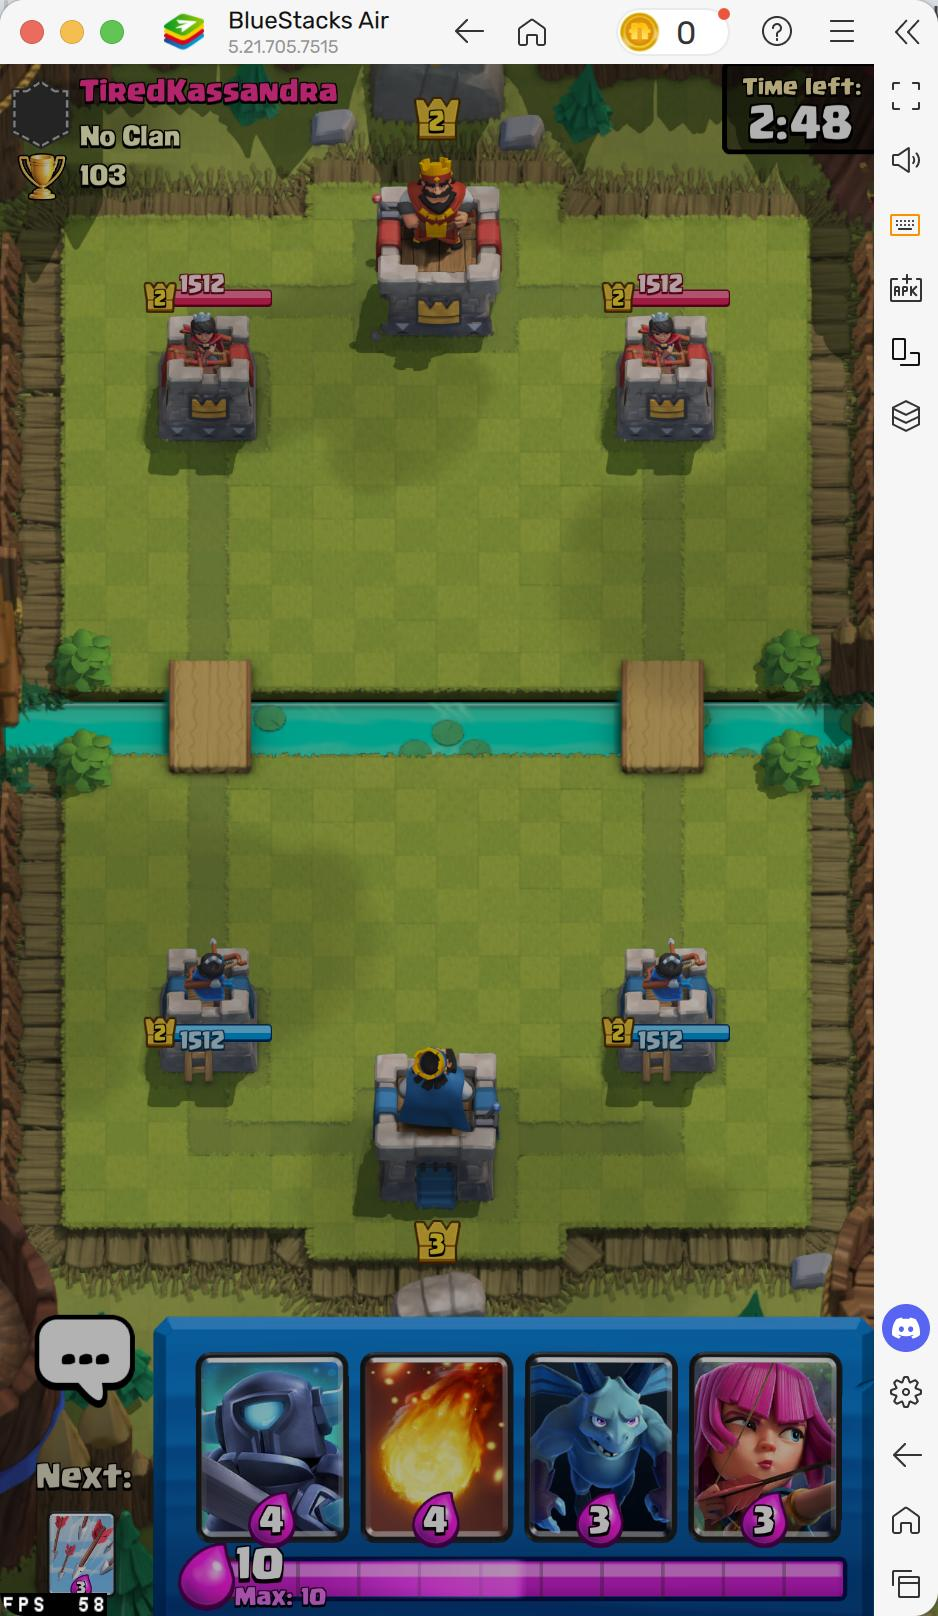0: (251, 1545, 286, 1584)
1: (233, 1542, 252, 1584), (176, 271, 191, 295), (636, 271, 648, 296), (201, 271, 212, 295), (659, 271, 670, 295), (636, 1029, 648, 1051), (659, 1029, 670, 1050), (179, 1029, 190, 1050), (202, 1029, 212, 1051)
2: (747, 100, 776, 144), (209, 270, 228, 295), (668, 271, 686, 295), (210, 1029, 226, 1052), (669, 1029, 685, 1051)
3: (586, 1502, 613, 1539), (753, 1503, 775, 1537), (75, 1579, 87, 1595)
4: (789, 104, 822, 142), (257, 1501, 287, 1539), (421, 1502, 450, 1538)
5: (188, 271, 204, 295), (645, 1029, 662, 1051), (645, 272, 661, 296), (189, 1029, 203, 1052)
Enemy Tower: (155, 311, 261, 444), (613, 314, 717, 443), (821, 103, 853, 142)
Friendly Tower: (615, 945, 718, 1075), (161, 945, 258, 1074)
